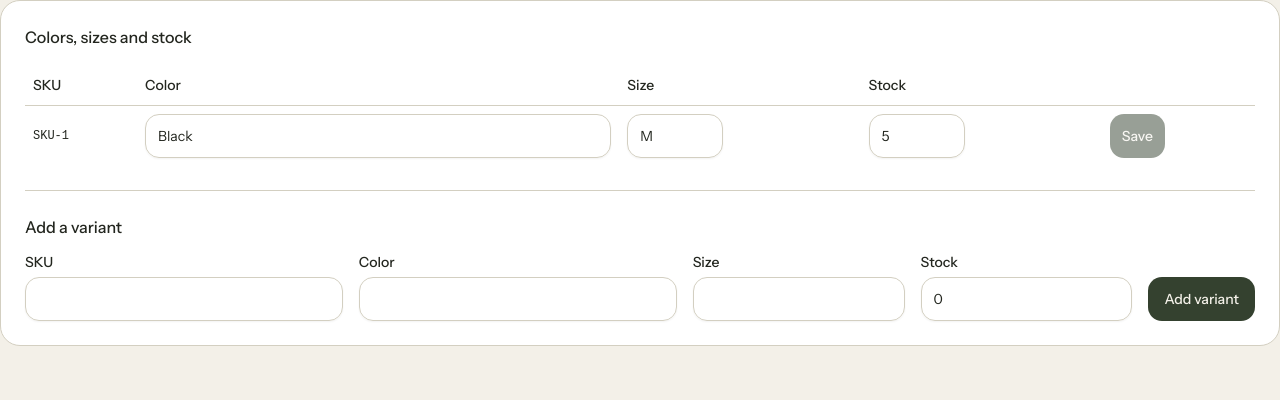
Test: VariantsSection: the variants of a product › changing a variant › does not send a stock of below 0, and says what is wrong
Replace the text in the field named "Stock of SKU-1" with "-1": (916, 136) [868,114,964,158]
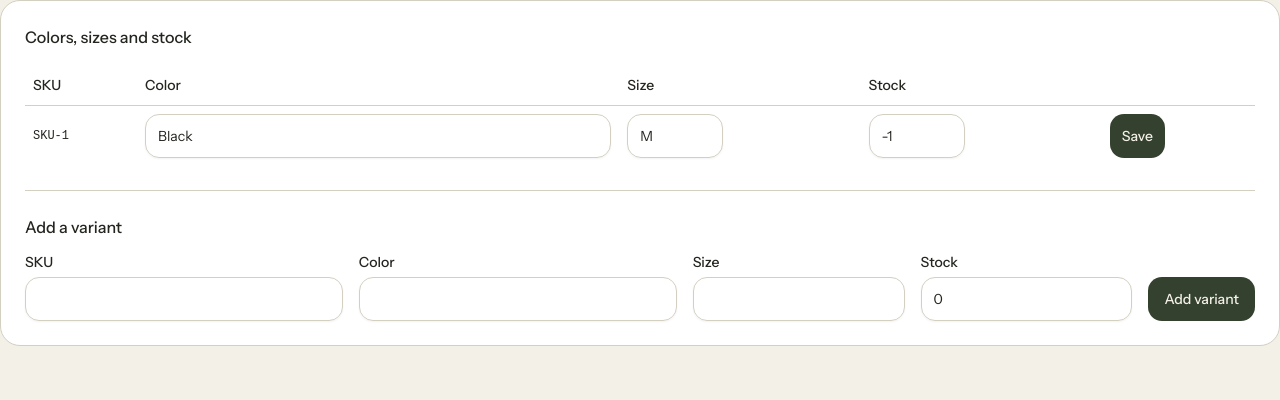
Click the button "Save": (1137, 136) [1110,114,1165,158]
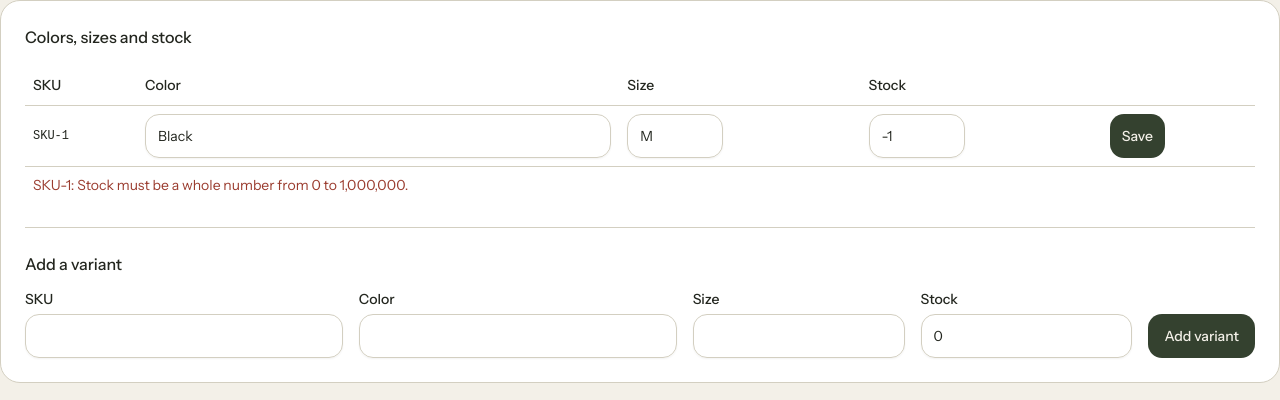
Expected: the message shows "Stock must be a whole number from 0 to 1,000,000.", [77,176,408,194]
